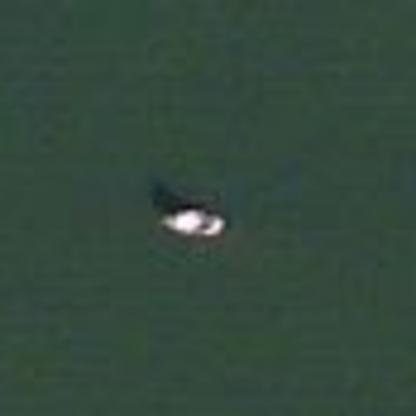ship: (154, 201, 233, 243)
